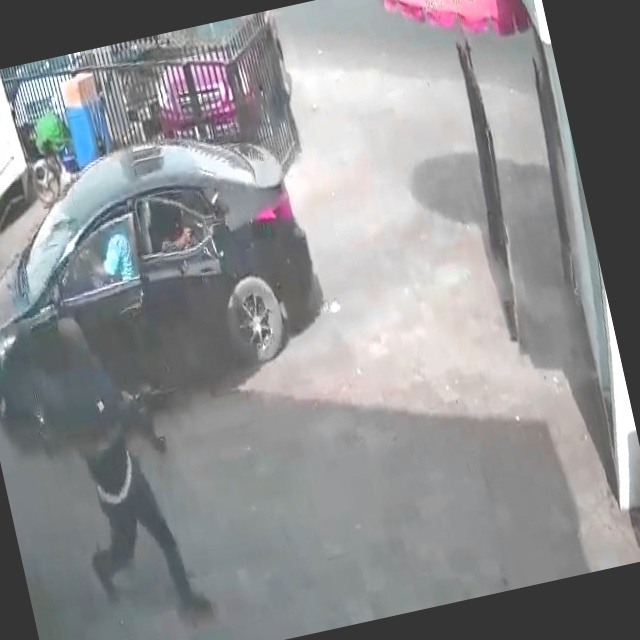gun: (102, 374, 187, 464), (169, 199, 230, 243)
